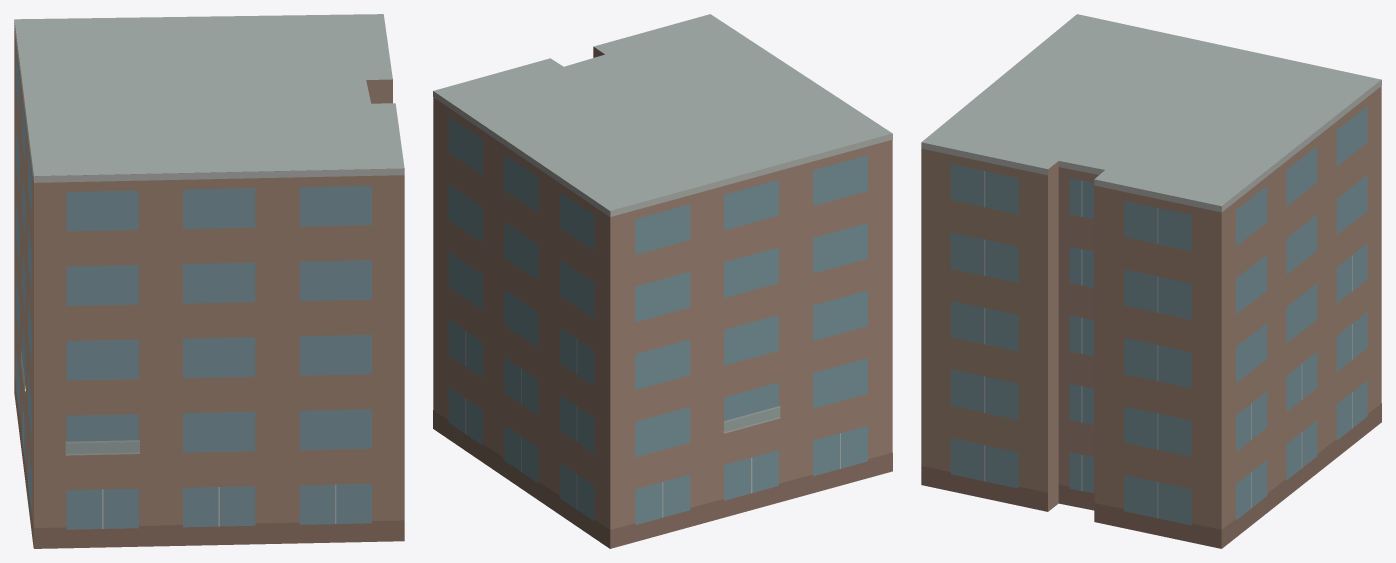
The model's file is survey-upis-32682150.glb.
The picture shows the model from 3 angles, left to right: view 1: azimuth 30°, elevation 25°; view 2: azimuth 150°, elevation 25°; view 3: azimuth 270°, elevation 25°; orthographic projection. The views are drawn at different scales.
Visible parts, largest first — view 1: survey-upis-32682150.tmp; view 2: survey-upis-32682150.tmp; view 3: survey-upis-32682150.tmp.
Part boxes in pixels (x1,y1,x2,y2): survey-upis-32682150.tmp: [14, 14, 404, 548]; survey-upis-32682150.tmp: [433, 14, 892, 548]; survey-upis-32682150.tmp: [921, 14, 1381, 548].
Size of the model in its own units: 16.25 by 13.5 by 16.45.
